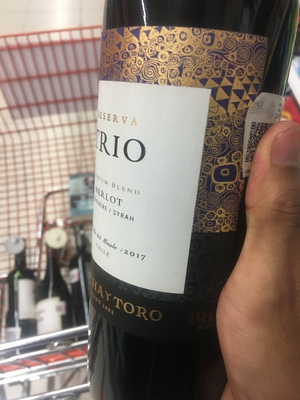trio merlot: (86, 11, 274, 380)
